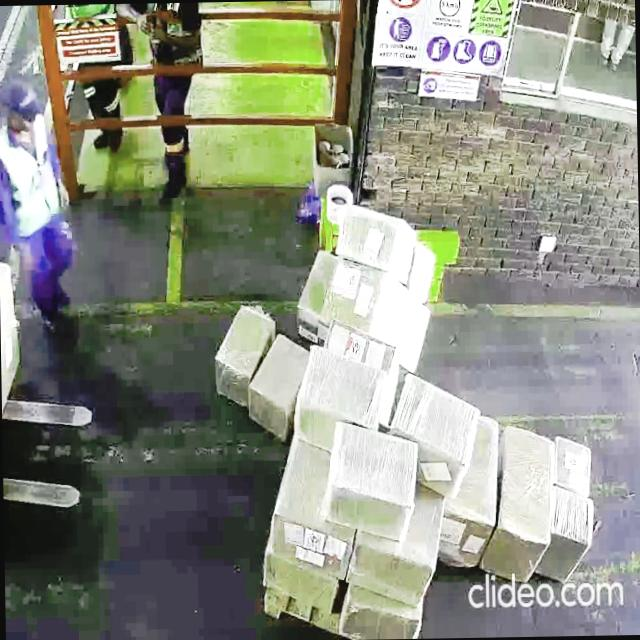Box: (322, 422, 420, 540), (394, 370, 481, 498), (334, 266, 431, 356), (498, 426, 548, 590), (297, 343, 382, 436), (342, 206, 414, 276), (208, 300, 264, 390), (272, 508, 345, 574), (549, 486, 594, 580), (254, 340, 302, 426), (354, 541, 424, 597), (342, 596, 422, 640), (443, 496, 482, 577), (554, 432, 596, 489)
